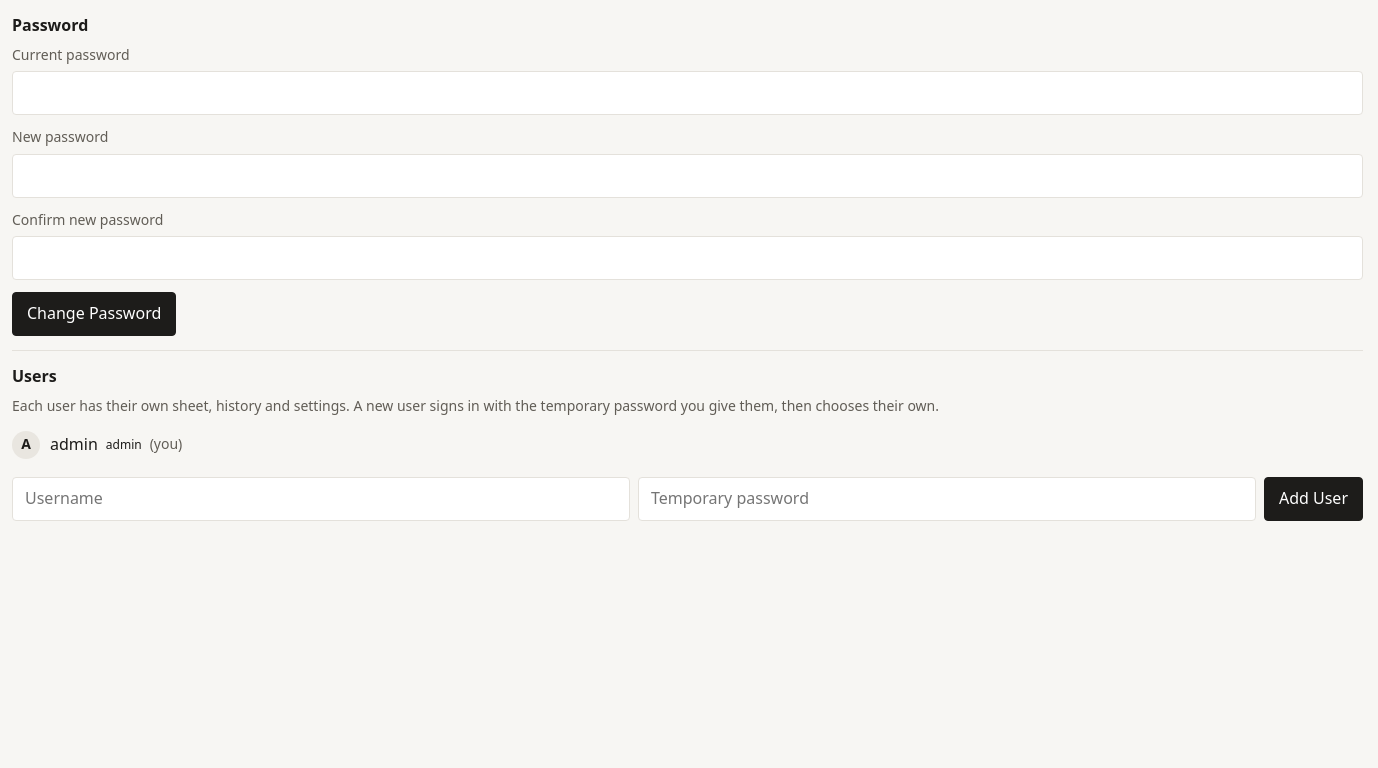
Test: AccountTab › says the password changed in a live region that was there before the text, and empties the boxes
Type "old-password" into the password field labelled "Current password".
click(688, 94); type("old-password")  # box x1=12 y1=72 x2=1363 y2=116
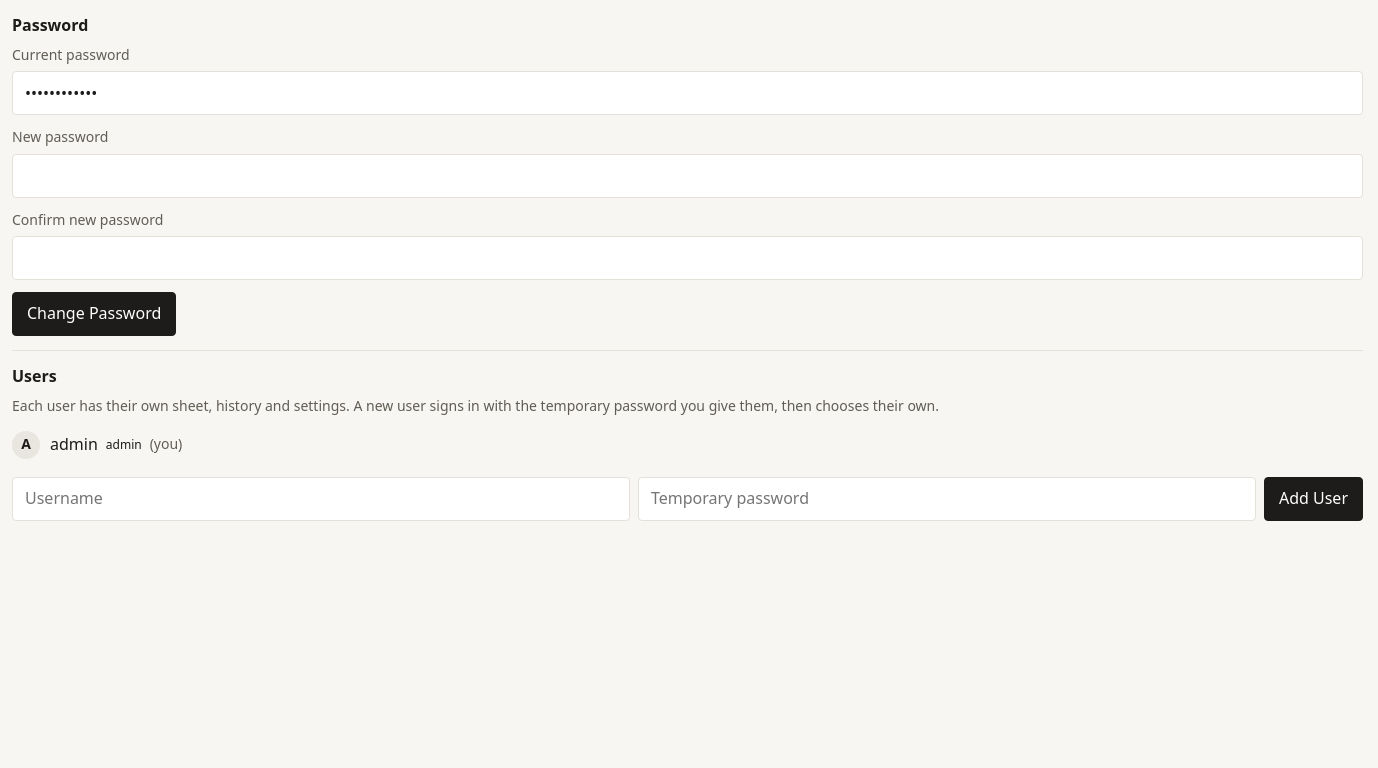
Type "new-password" into the password field labelled "New password".
click(688, 176); type("new-password")  # box x1=12 y1=154 x2=1363 y2=198
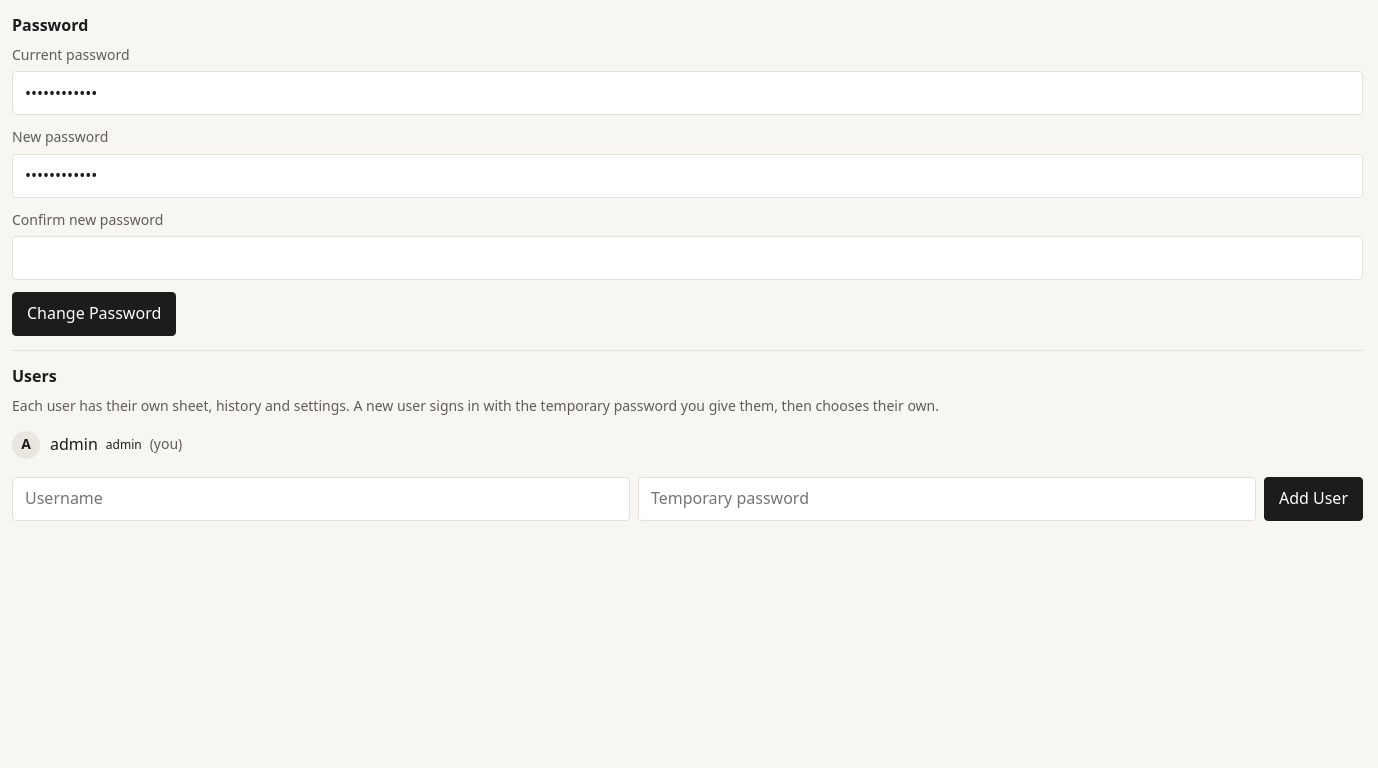
Type "new-password" into the password field labelled "Confirm new password".
click(688, 258); type("new-password")  # box x1=12 y1=236 x2=1363 y2=280
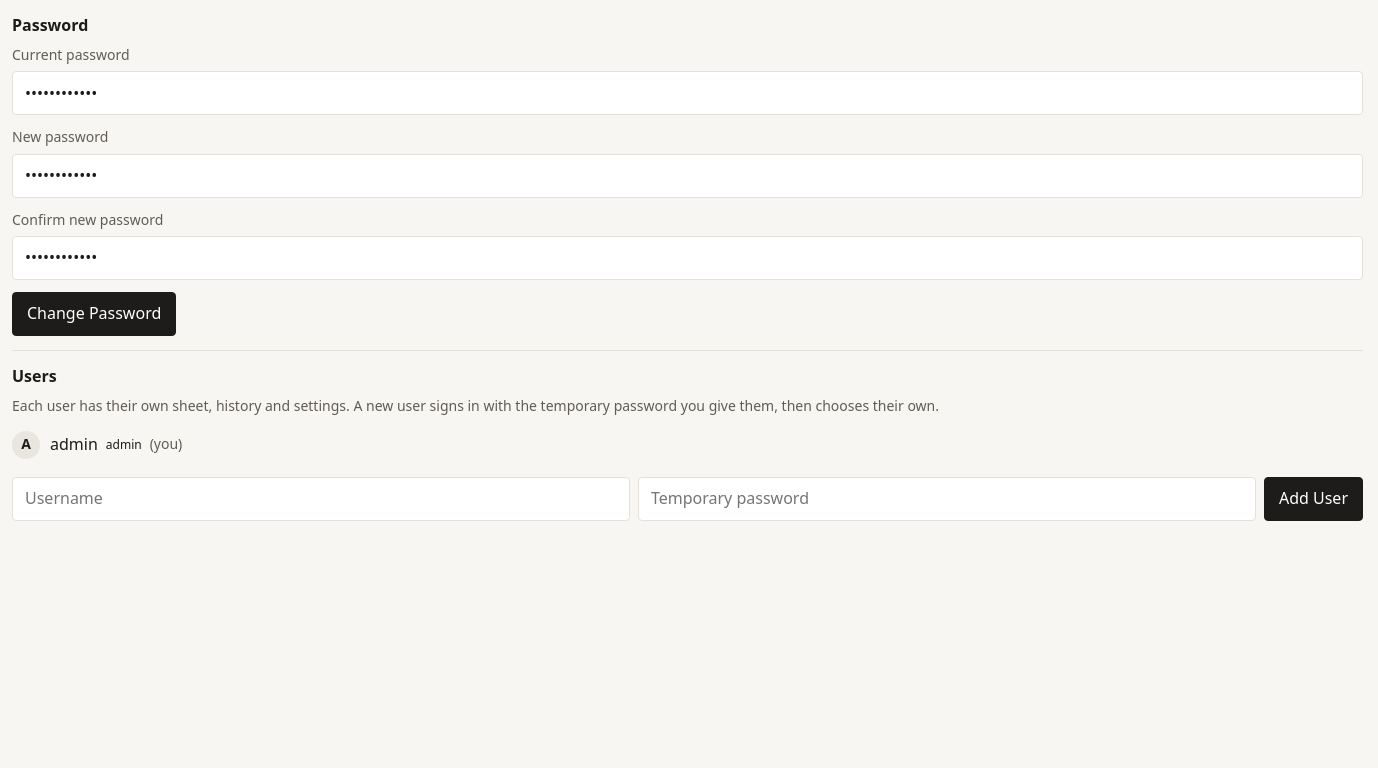
Submit the form that starts with "Current password", box x1=12 y1=45 x2=1363 y2=336
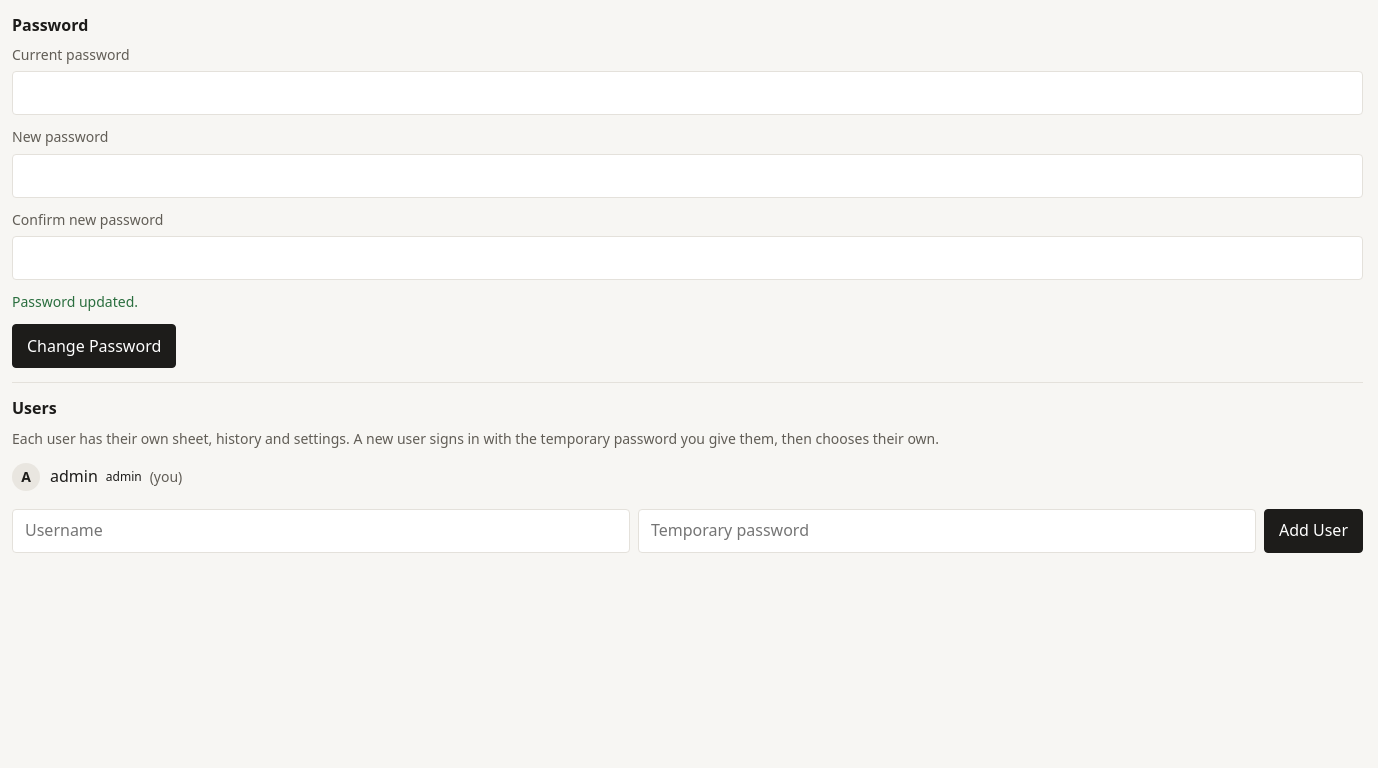
Now the message reads "Password updated.", box x1=12 y1=292 x2=138 y2=311
